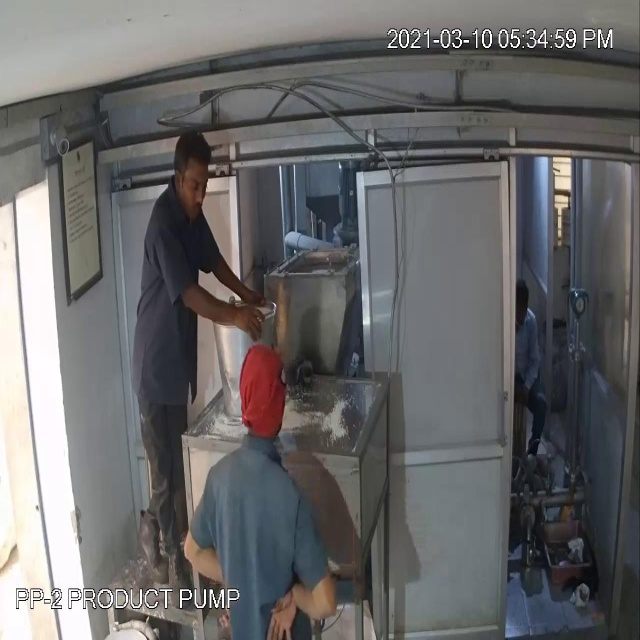Sin_guantes: (176, 270, 261, 356)
